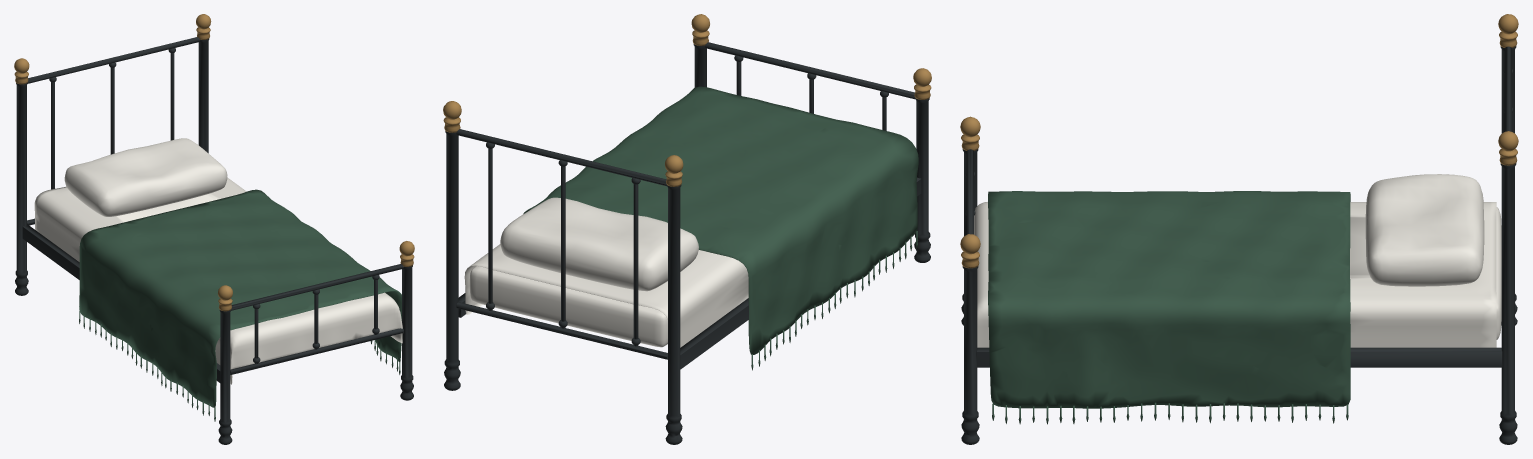
File: Bed_Single.fbx
3 views of the same model, side by side, from view 1: azimuth 30°, elevation 25°; view 2: azimuth 150°, elevation 25°; view 3: azimuth 270°, elevation 25° (orthographic). The views are drawn at different scales.
Visible parts, largest first — view 1: BED_Blanket_Green_Unity_export, BED_Frame_Black_Unity_export, BED_Sheet_White_Unity_export, BED_Pillow_Unity_export, BED_Frame_Brass_Unity_export, BED_Tassels_Green_Unity_export; view 2: BED_Blanket_Green_Unity_export, BED_Frame_Black_Unity_export, BED_Pillow_Unity_export, BED_Sheet_White_Unity_export, BED_Mattress_Unity_export, BED_Frame_Brass_Unity_export, BED_Tassels_Green_Unity_export; view 3: BED_Blanket_Green_Unity_export, BED_Sheet_White_Unity_export, BED_Pillow_Unity_export, BED_Frame_Black_Unity_export, BED_Frame_Brass_Unity_export, BED_Tassels_Green_Unity_export, BED_Mattress_Unity_export.
Boxes of the visible parts, x1,y1,x2,y2 form: BED_Blanket_Green_Unity_export: (79,189,401,407); BED_Frame_Black_Unity_export: (15,37,413,444); BED_Sheet_White_Unity_export: (34,177,402,384); BED_Pillow_Unity_export: (64,138,227,216); BED_Frame_Brass_Unity_export: (14,14,414,311); BED_Tassels_Green_Unity_export: (79,310,400,421); BED_Blanket_Green_Unity_export: (523,86,918,354); BED_Frame_Black_Unity_export: (444,42,930,444); BED_Pillow_Unity_export: (500,197,698,291); BED_Sheet_White_Unity_export: (464,244,748,347); BED_Mattress_Unity_export: (469,266,667,347); BED_Frame_Brass_Unity_export: (443,14,931,186); BED_Tassels_Green_Unity_export: (751,231,917,370); BED_Blanket_Green_Unity_export: (988,191,1350,408); BED_Sheet_White_Unity_export: (974,202,1496,347); BED_Pillow_Unity_export: (1365,174,1484,286); BED_Frame_Black_Unity_export: (961,46,1517,444); BED_Frame_Brass_Unity_export: (960,14,1518,268); BED_Tassels_Green_Unity_export: (992,402,1348,424); BED_Mattress_Unity_export: (1496,207,1501,339).
Bounding box in the file's own units: 1.09 × 1.24 × 2.02.
